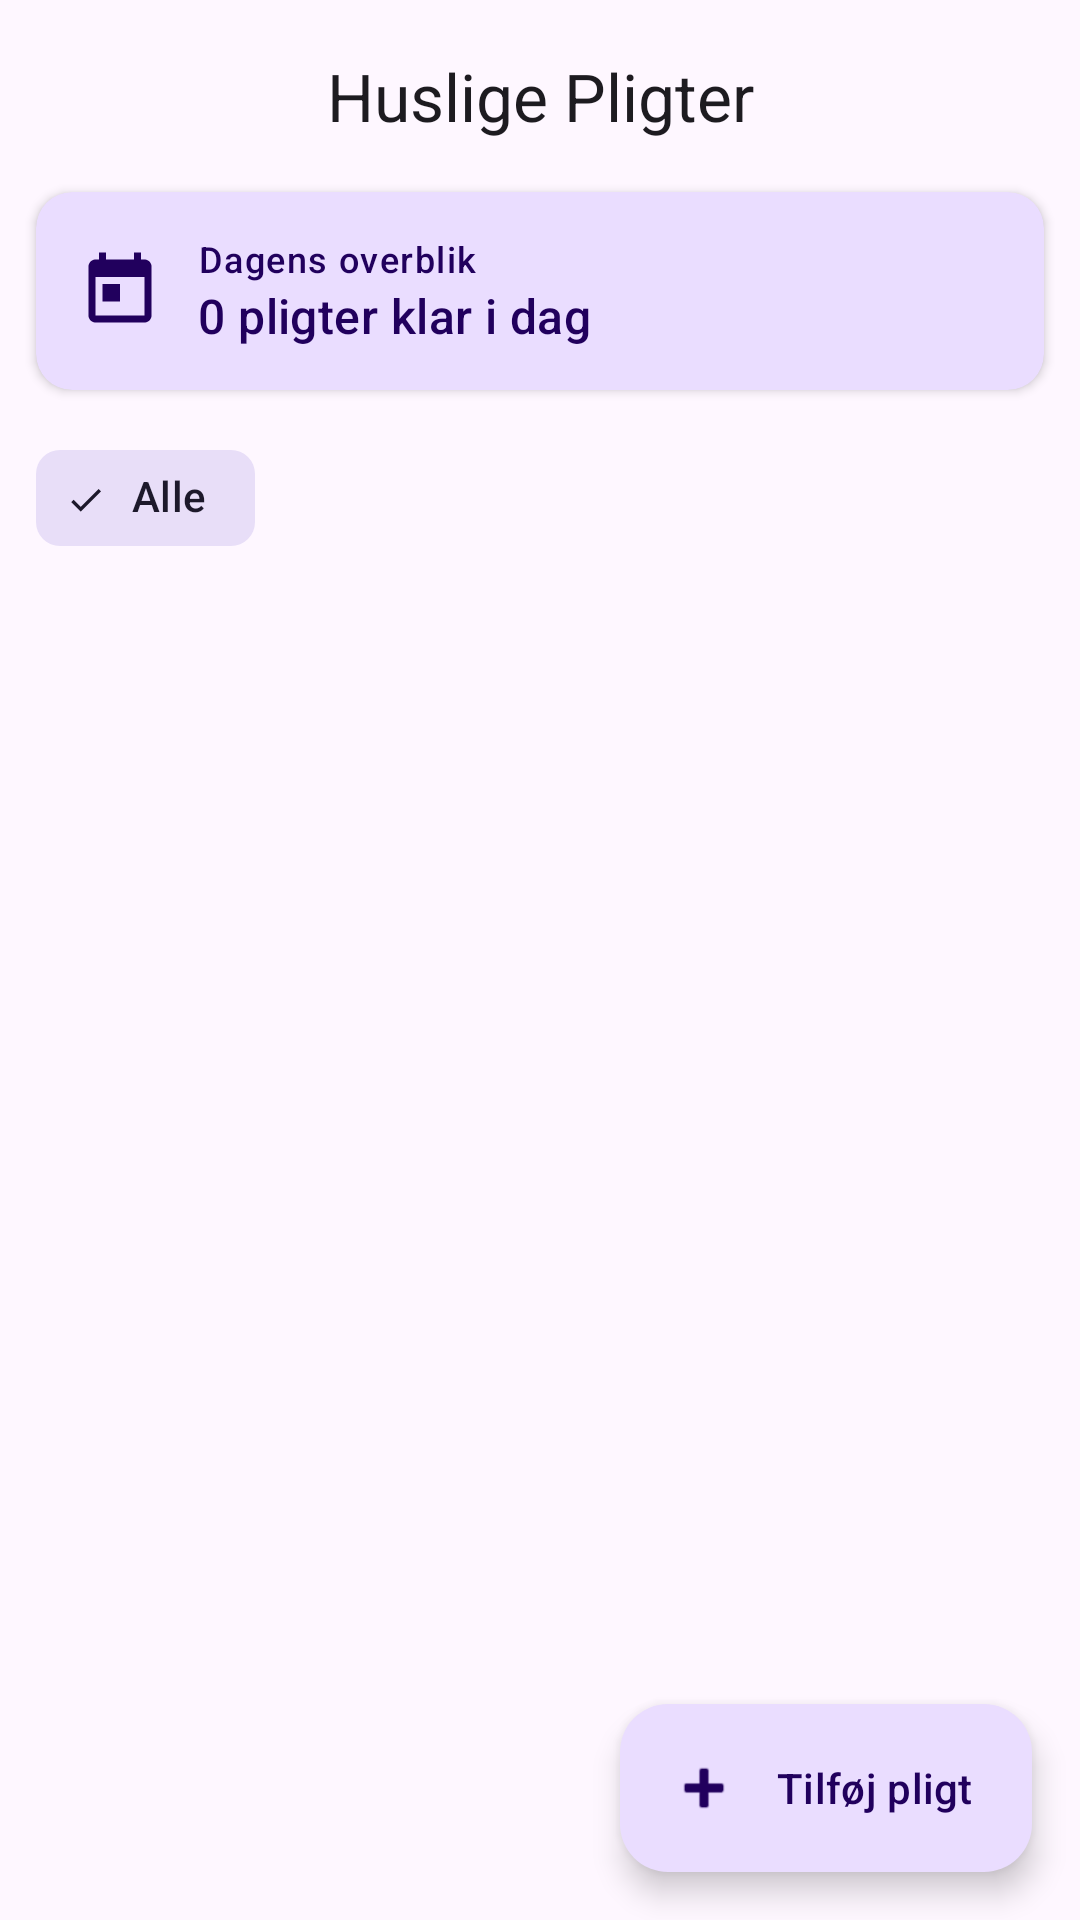

Where to tap for icons on this 1080×1920 app screen, as (x,y):
today: (120,287)
